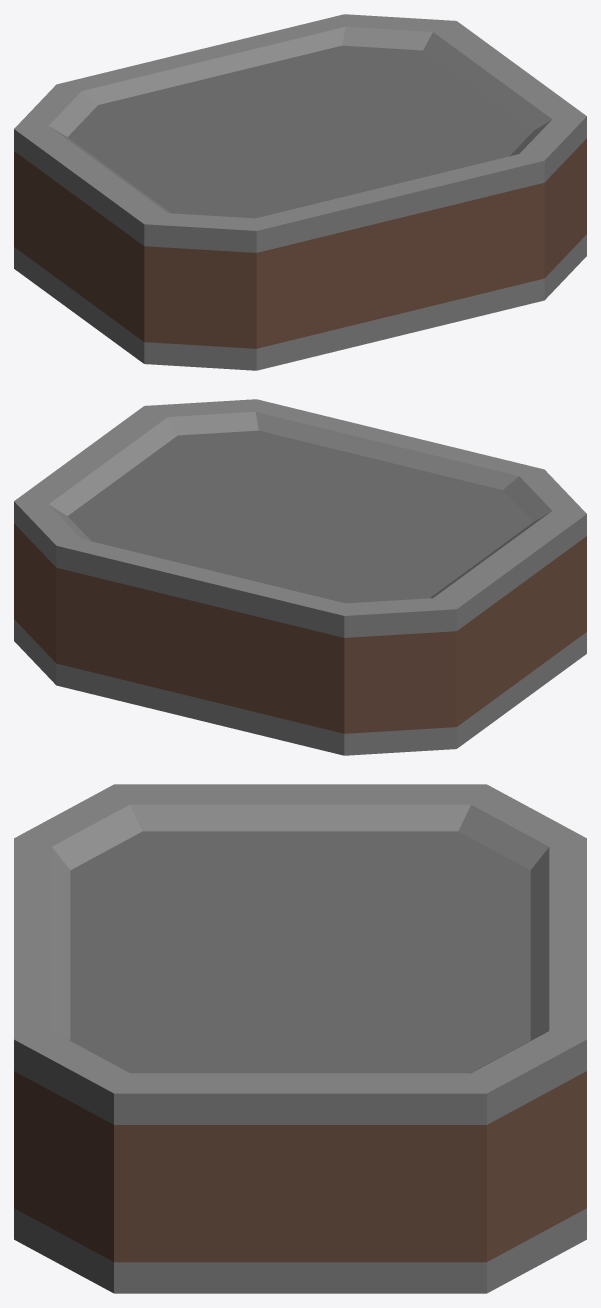
File: SM_Food_CannedFood_08.fbx
3 renders of one model, top to bottom at view 1: azimuth 30°, elevation 25°; view 2: azimuth 150°, elevation 25°; view 3: azimuth 270°, elevation 25°, orthographic. The views are drawn at different scales.
Parts seen in each view (by area): view 1: SM_Food_CannedFood_08; view 2: SM_Food_CannedFood_08; view 3: SM_Food_CannedFood_08.
Boxes of the visible parts, <box> form: SM_Food_CannedFood_08: <box>14,14,586,370</box>; SM_Food_CannedFood_08: <box>14,399,586,755</box>; SM_Food_CannedFood_08: <box>14,784,586,1293</box>.
Bounding box in the file's own units: 0.1514 × 0.0457 × 0.1186.
